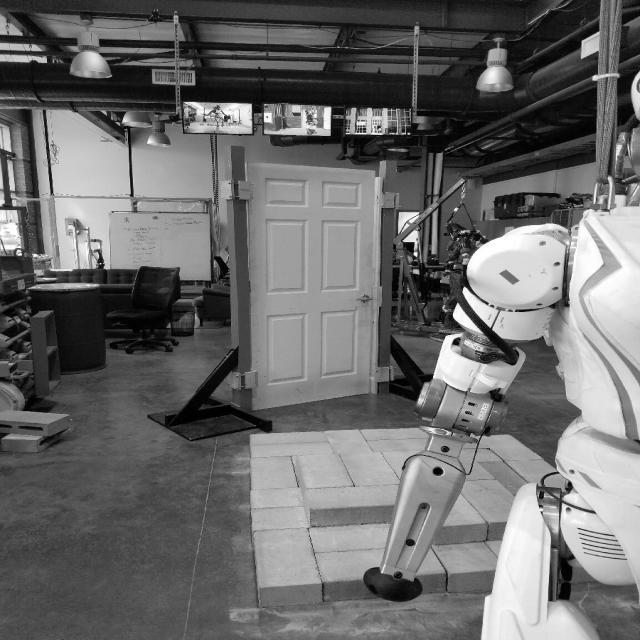door: (242, 160, 380, 414), (352, 292, 372, 306)
